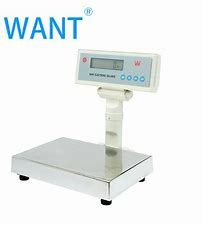Industrial Scale: (10, 48, 162, 207)
